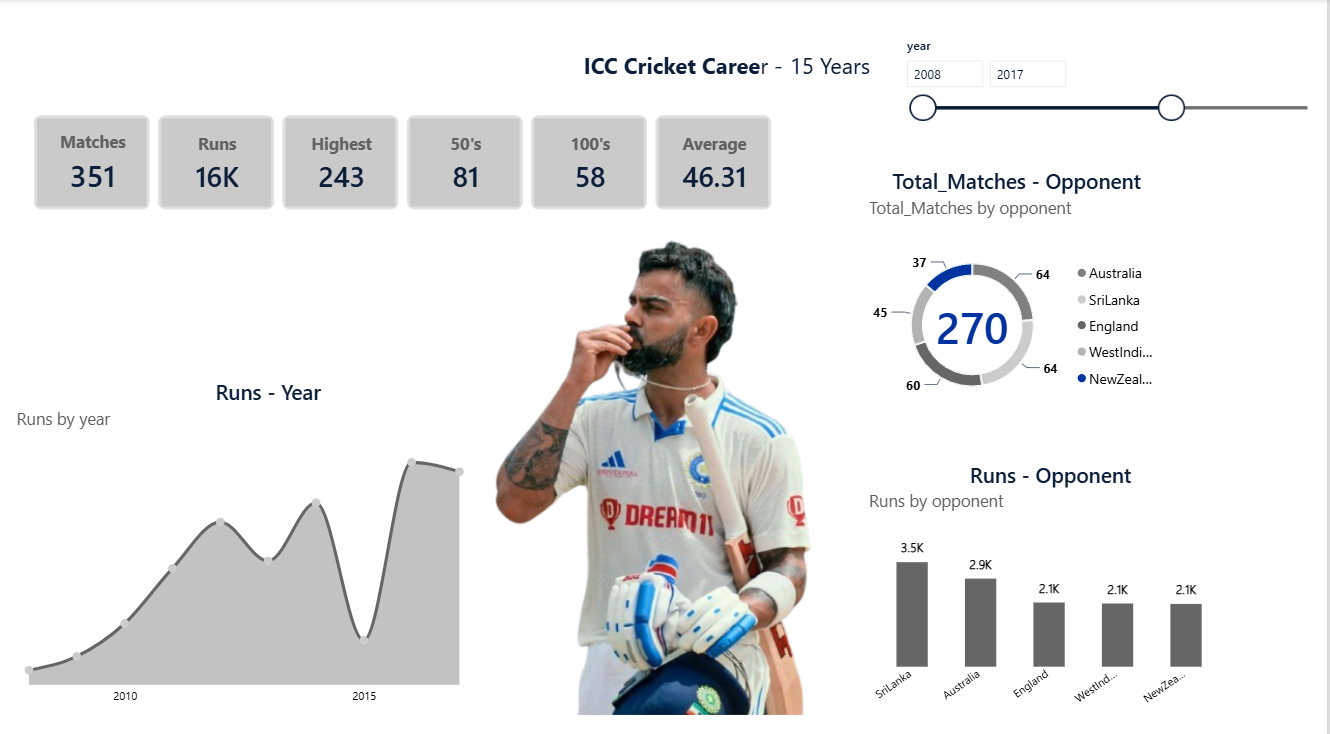

The dashboard page shown, as its layout file describes it:
{"tool":"powerbi","page":{"name":"DashBoard","canvas":[1280,720],"ordinal":0},"visuals":[{"type":"cardVisual","fields":{"Data":["Measures_Table.Total_Matches","Measures_Table.Runs","Measures_Table.HighestScore","Measures_Table.50s","Measures_Table.100s","Avg(Virat_Kohli.runs)"]},"box":[32.6,112.2,714.6,91.8],"z":0},{"type":"columnChart","title":"Runs - Opponent","fields":{"Category":["Virat_Kohli.opponent"],"Y":["Measures_Table.Runs"]},"box":[822.8,430.7,382.3,270.7],"z":1000},{"type":"donutChart","title":"Total_Matches - Opponent","fields":{"Category":["Virat_Kohli.opponent"],"Y":["Measures_Table.Total_Matches"]},"box":[822.8,147.2,317.2,270.7],"z":2000},{"type":"areaChart","title":"Runs - Year","fields":{"Category":["Calender.year"],"Y":["Measures_Table.Runs"]},"box":[0,351.1,517.6,349.9],"z":3000},{"type":"slicer","fields":{"Values":["Calender.year"]},"box":[867.4,36.2,412.6,91.7],"z":4000},{"type":"textbox","box":[563.5,50,233.6,41.8],"z":5000},{"type":"textbox","box":[598.4,70.9,60.4,40.7],"z":6000},{"type":"textbox","box":[640.2,70.9,105.7,29],"z":7000},{"type":"textbox","box":[762.2,50,174.3,50],"z":8000}]}

Visuals, with their boxes in screenshot pixels (x1, y1, x2, y2), scaled from the page's 1280x720 canvas onto the 1330x734 screenshot:
cardVisual - Measures_Table.Total_Matches x Measures_Table.Runs: left=34, top=114, right=776, bottom=208
"Runs - Opponent" columnChart: left=855, top=439, right=1252, bottom=715
"Total_Matches - Opponent" donutChart: left=855, top=150, right=1185, bottom=426
"Runs - Year" areaChart: left=0, top=358, right=538, bottom=715
slicer - Calender.year: left=901, top=37, right=1329, bottom=130
textbox: left=586, top=51, right=828, bottom=94
textbox: left=622, top=72, right=685, bottom=114
textbox: left=665, top=72, right=775, bottom=102
textbox: left=792, top=51, right=973, bottom=102
